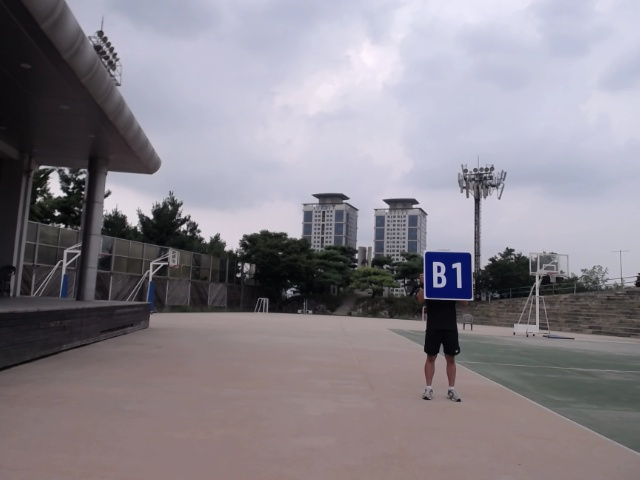delivery_b1: (424, 250, 473, 300)
